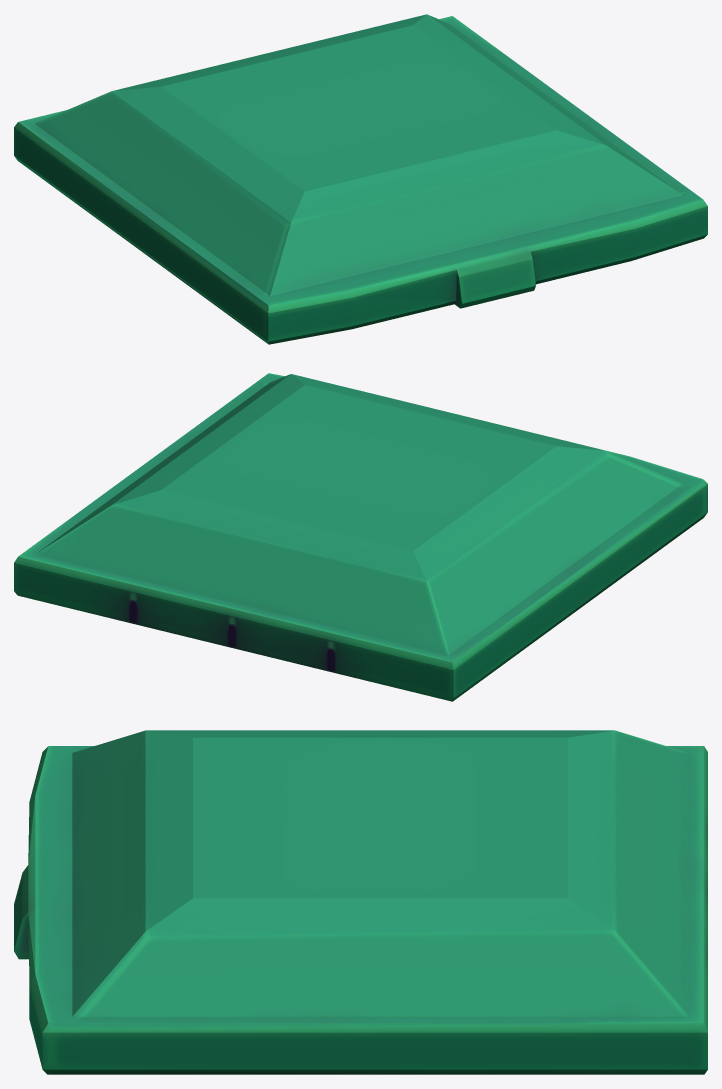
3 renders of one model, top to bottom at view 1: azimuth 30°, elevation 25°; view 2: azimuth 150°, elevation 25°; view 3: azimuth 270°, elevation 25°, orthographic. The views are drawn at different scales.
Bounding box in the file's own units: 1.26 × 0.2459 × 1.31.
1 material, 1 textured.
